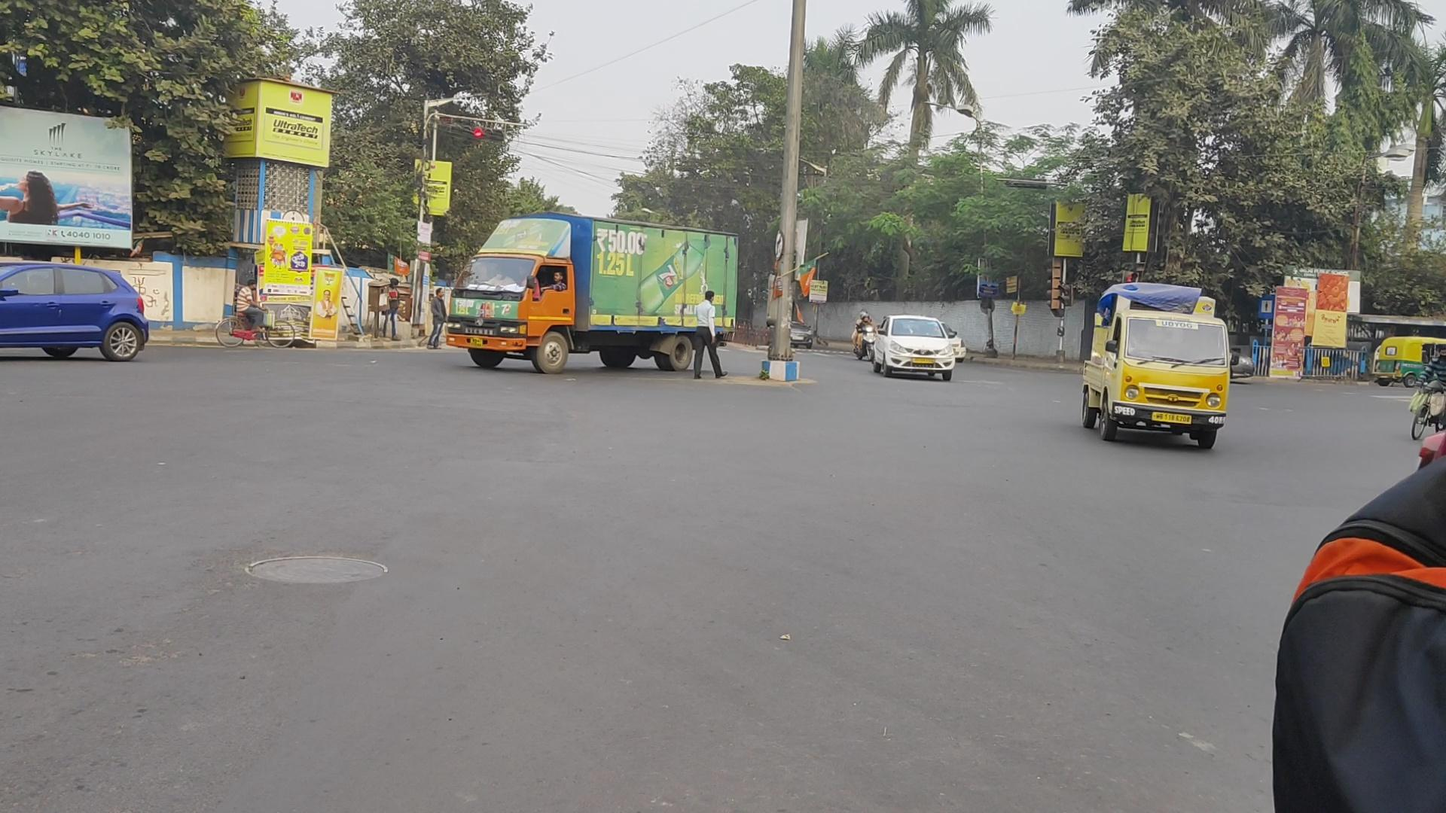Auto: (1375, 336, 1446, 389)
bike: (215, 280, 296, 348), (851, 308, 880, 362)
car: (1, 262, 149, 362), (872, 315, 954, 382)
truck: (447, 212, 738, 375)
van: (1081, 284, 1230, 449)
